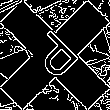P_SE: (24, 24, 86, 86)
